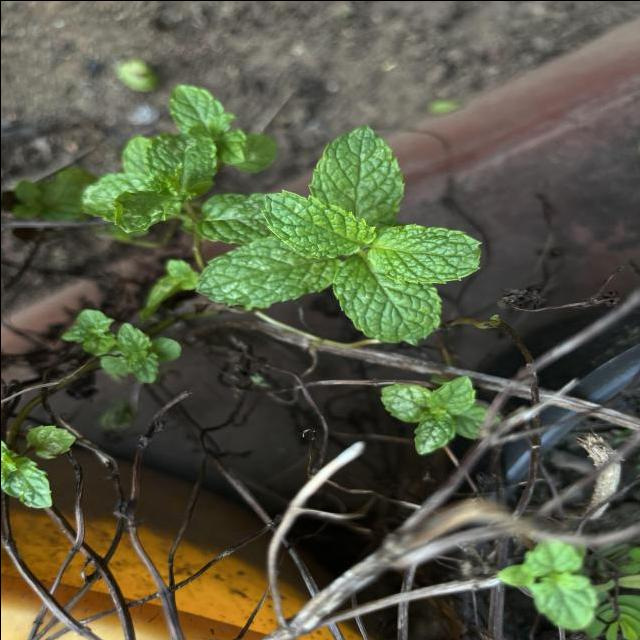Mentha spicata: (330, 258, 439, 346), (305, 123, 405, 216), (258, 187, 376, 259), (366, 222, 483, 284)
